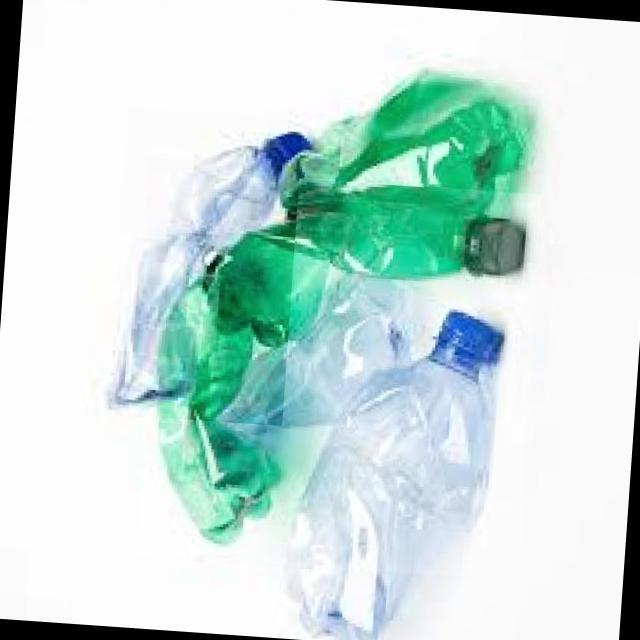defected: (134, 168, 540, 582), (273, 301, 534, 640), (106, 108, 302, 426), (275, 75, 557, 283)
